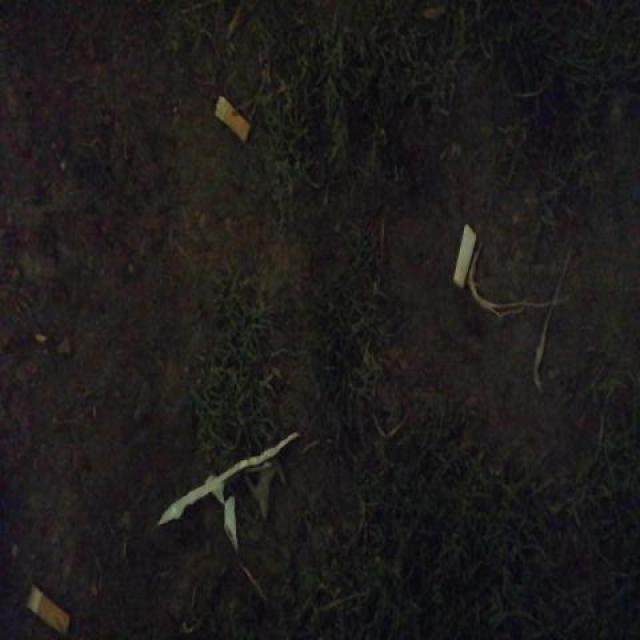non-organic waste: (22, 579, 74, 638), (210, 90, 254, 147), (448, 220, 481, 292)
